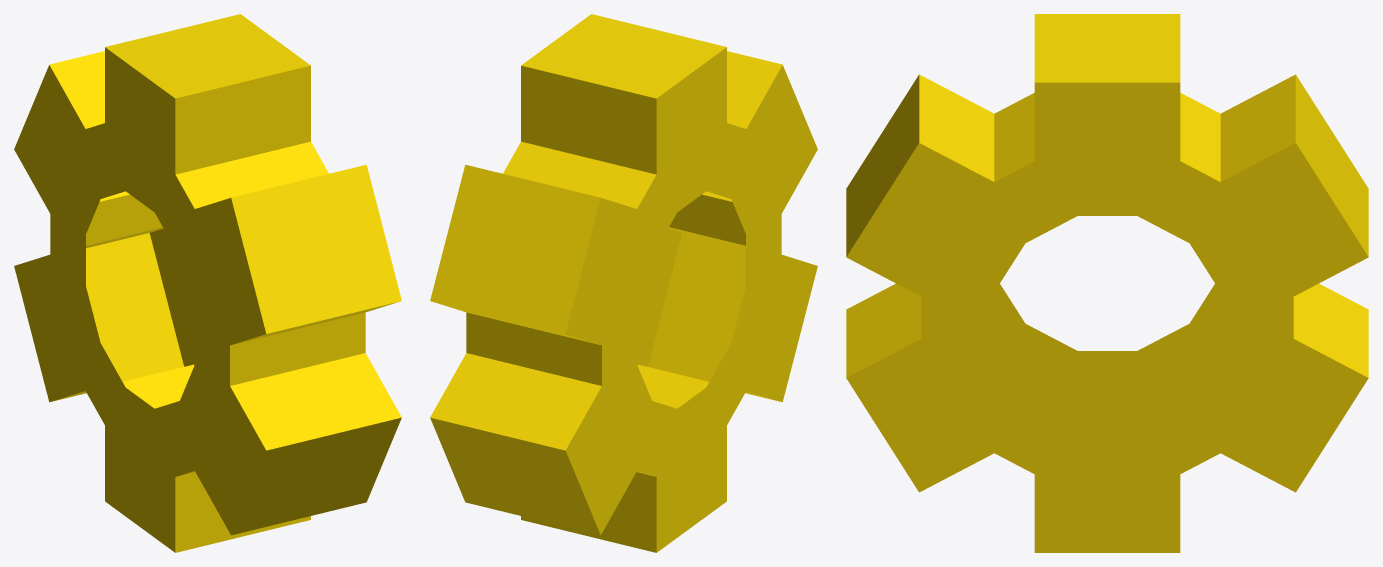
Rendered from cryptex_2.fbx.
3 views of the same model, side by side, from view 1: azimuth 30°, elevation 25°; view 2: azimuth 150°, elevation 25°; view 3: azimuth 270°, elevation 25° (orthographic). The views are drawn at different scales.
Parts seen in each view (by area): view 1: Object015; view 2: Object015; view 3: Object015.
Boxes of the visible parts, bbox=[...] form: Object015: bbox=[14, 14, 401, 552]; Object015: bbox=[430, 14, 817, 552]; Object015: bbox=[846, 14, 1368, 552].
Bounding box in the file's own units: 0.0219 × 0.0702 × 0.0707.
